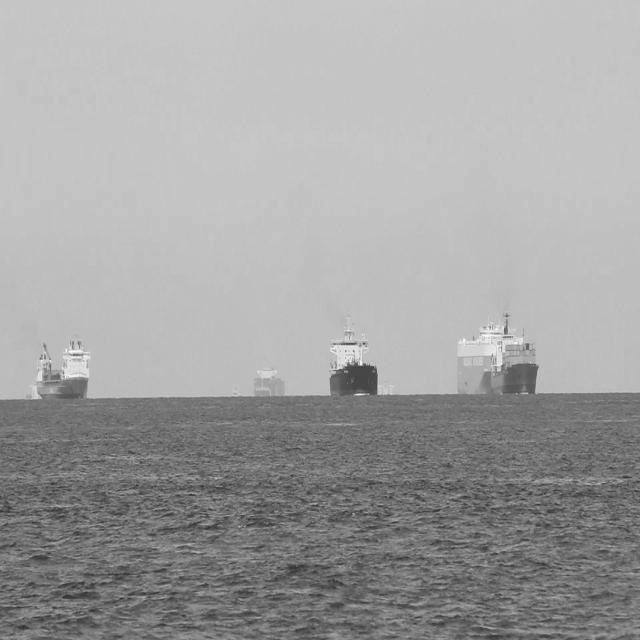ship: (457, 309, 540, 396), (328, 311, 378, 398), (35, 330, 91, 400), (254, 365, 286, 399), (376, 382, 396, 395), (231, 384, 241, 401), (27, 380, 35, 400)
